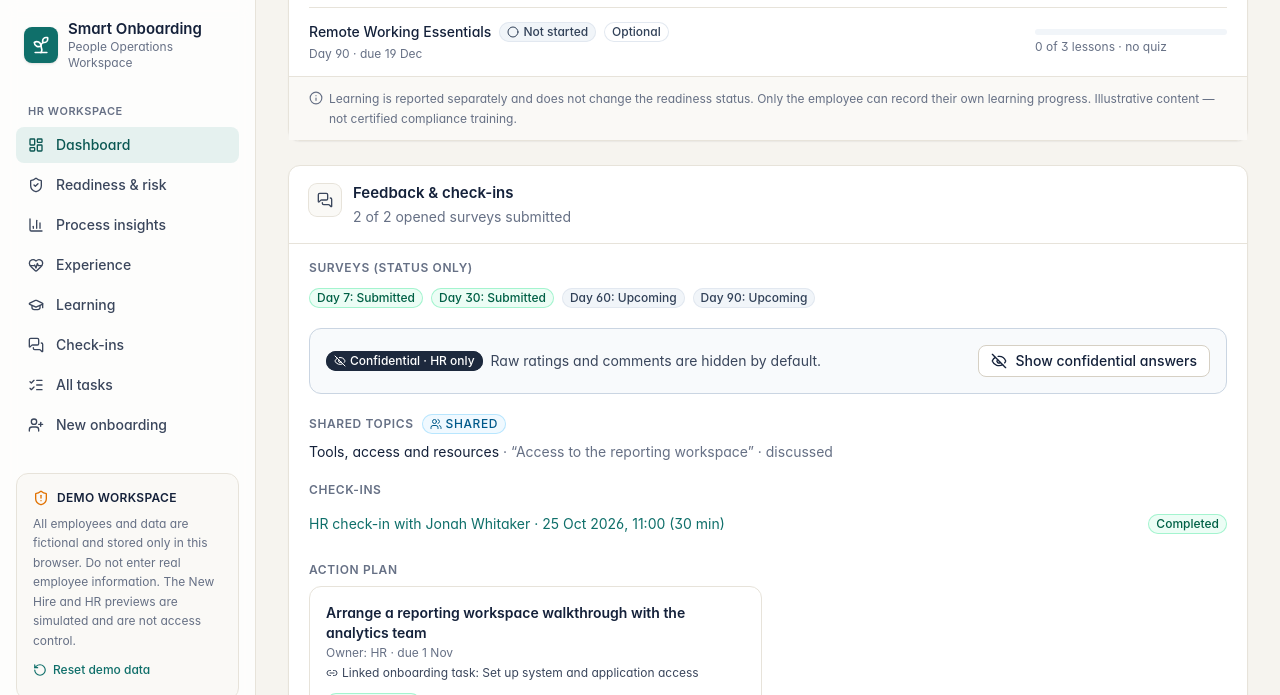
Scenario: HR: Feedback & check-ins › hides raw survey answers on the case page until HR chooses to show them
The width and height of the screenshot is (1280, 695).
(page scrolled)
Click the button "Show confidential answers" at (1094, 360), box [978,344,1210,376]
(page scrolled)
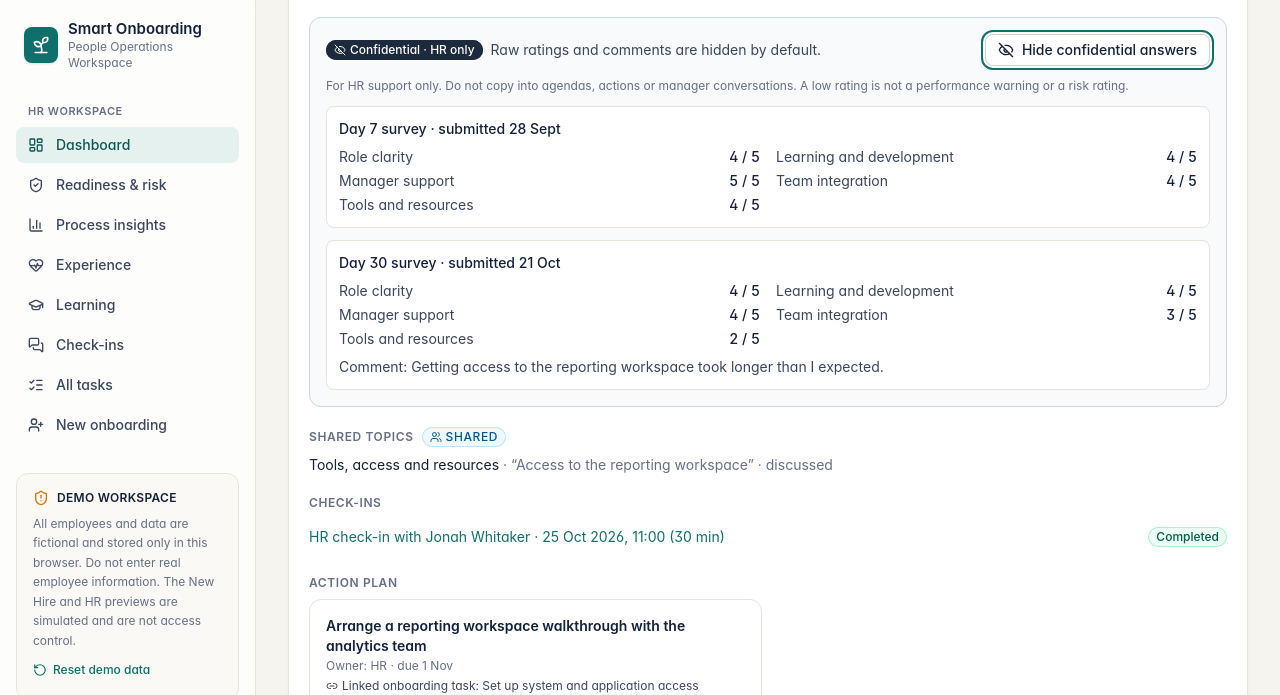
Now the element "Feedback & check-ins" shows "A low rating is not a performance warning or a risk rating.", box [326,78,1129,92]
